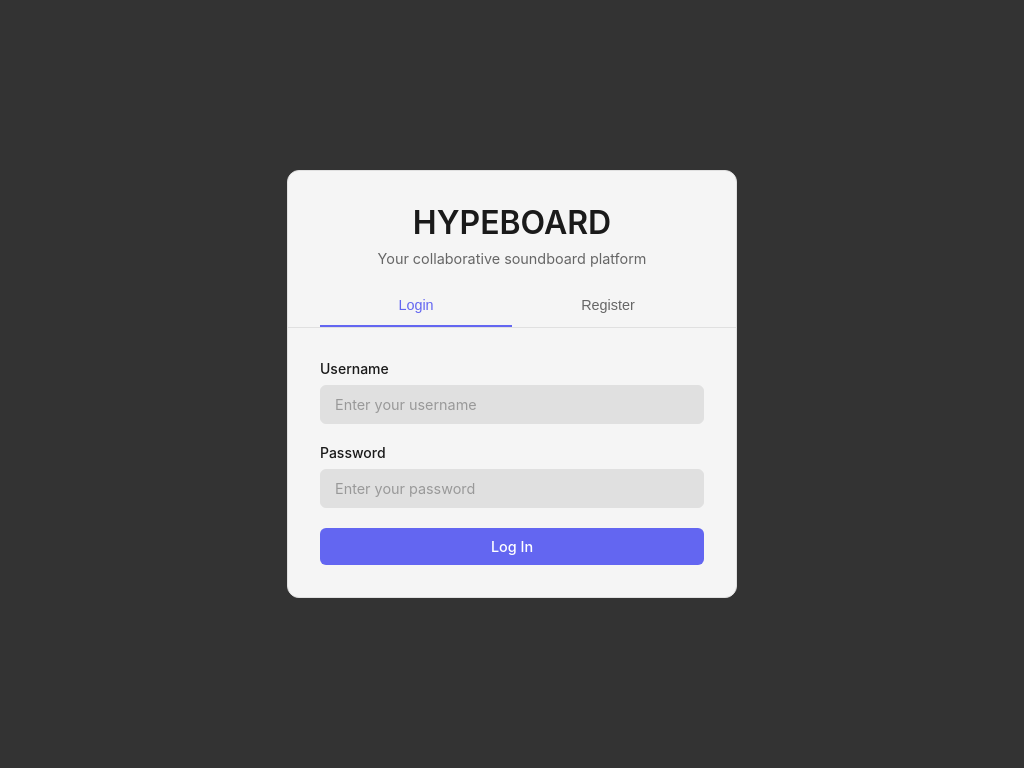
Test: LoginModal › should switch to register form
The image size is (1024, 768).
What coordinates should you click on to do the following:
click the button "Register"
I would click on:
 (608, 305)
Its box is x1=512 y1=283 x2=704 y2=327.
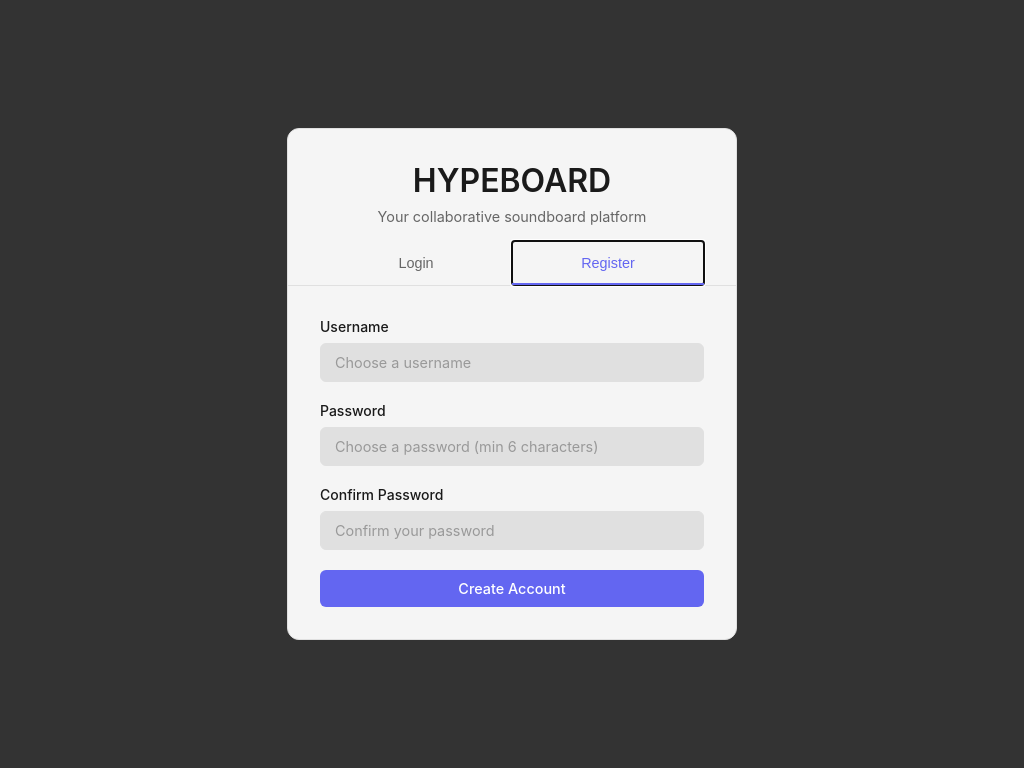
expect the field with placeholder "Choose a username" is shown: met, box x1=320 y1=343 x2=704 y2=382
expect the password field with placeholder "Choose a password (min 6 characters)" is shown: met, box x1=320 y1=427 x2=704 y2=466
expect the password field with placeholder "Confirm your password" is shown: met, box x1=320 y1=511 x2=704 y2=550
